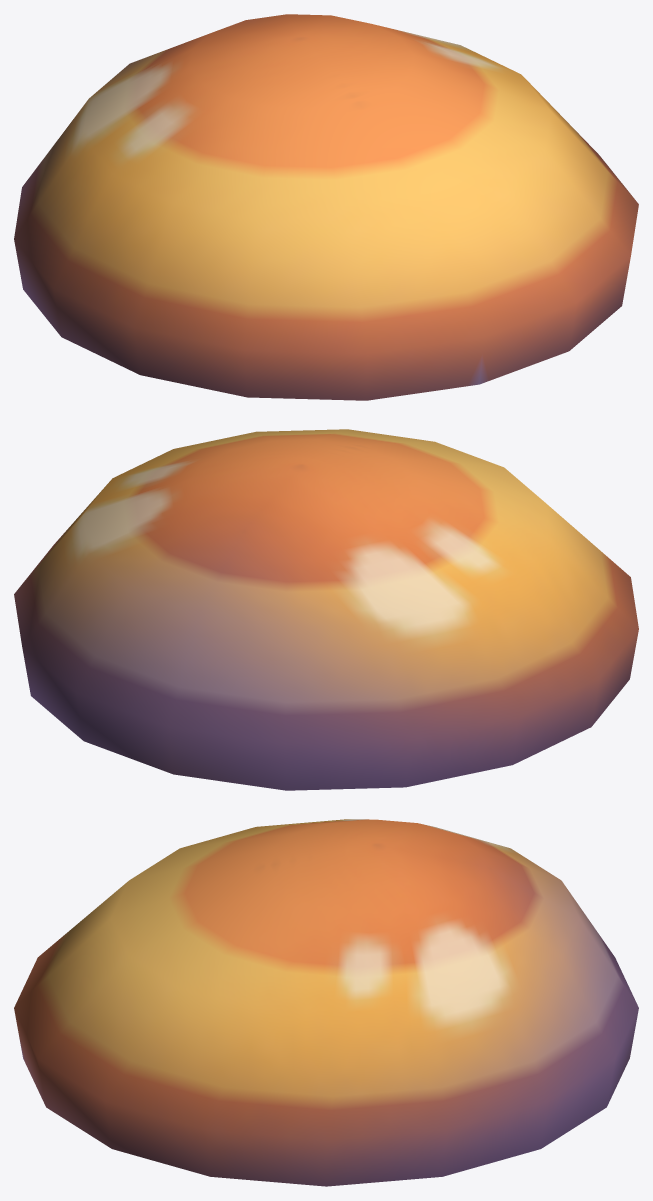
File: scenes_around_candy02.FBX
3 renders of one model, top to bottom at view 1: azimuth 30°, elevation 25°; view 2: azimuth 150°, elevation 25°; view 3: azimuth 270°, elevation 25°, orthographic.
Parts seen in each view (by area): view 1: scenes_around_candy02; view 2: scenes_around_candy02; view 3: scenes_around_candy02.
Boxes of the visible parts, left/top/right/bottom form: scenes_around_candy02: left=14, top=14, right=638, bottom=400; scenes_around_candy02: left=14, top=429, right=638, bottom=790; scenes_around_candy02: left=14, top=819, right=638, bottom=1186.
Size of the model in its own units: 2181 by 823 by 2181.
